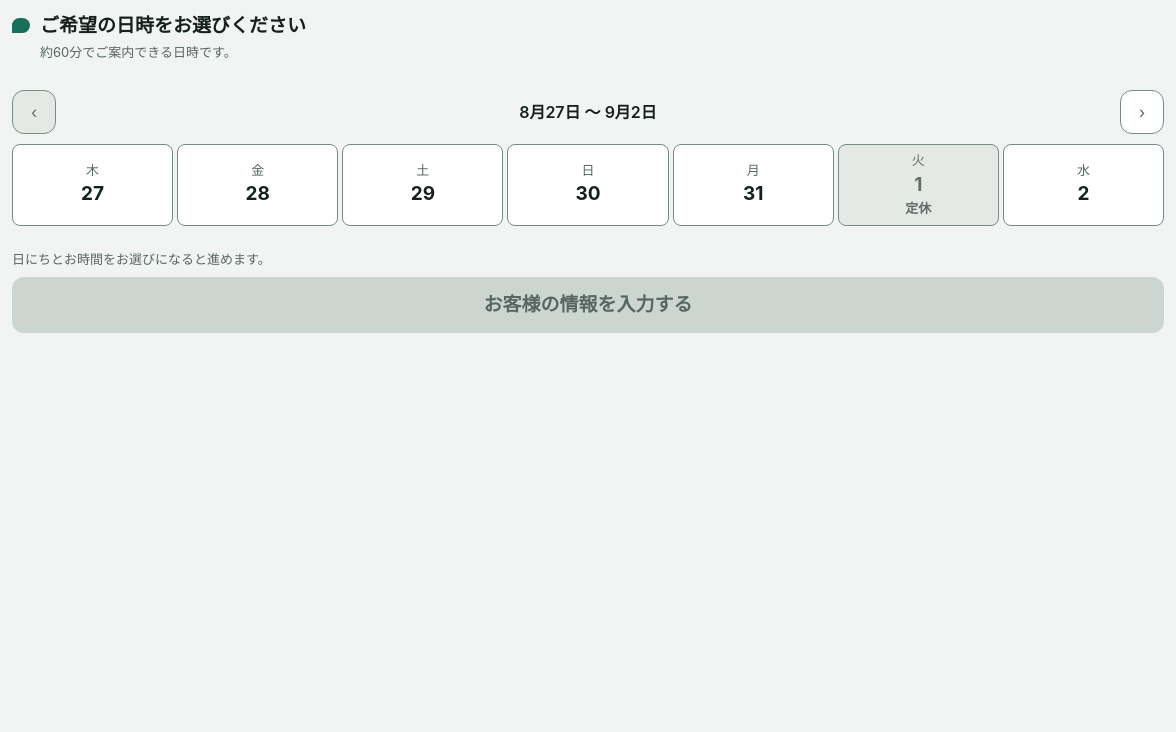
Test: 日時を選ぶ › 受け付ける時間（10:30–18:00）の外の時刻は候補に出ない
The image size is (1176, 732).
What coordinates should you click on to do the following:
click the button named "8月27日（木）"
I would click on:
 (93, 185)
Its box is [12,144,173,226].
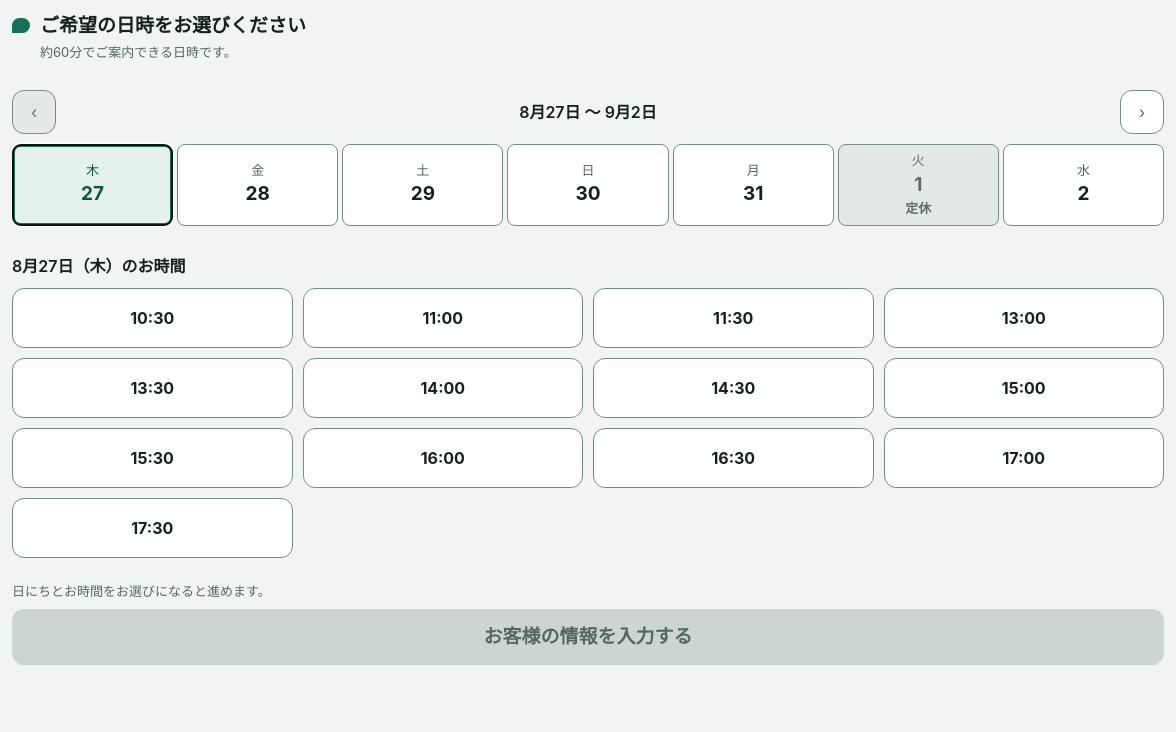
Expected: the button "10:30" is shown, [12,288,292,348]
Expected: the button "17:30" is shown, [12,498,292,558]
